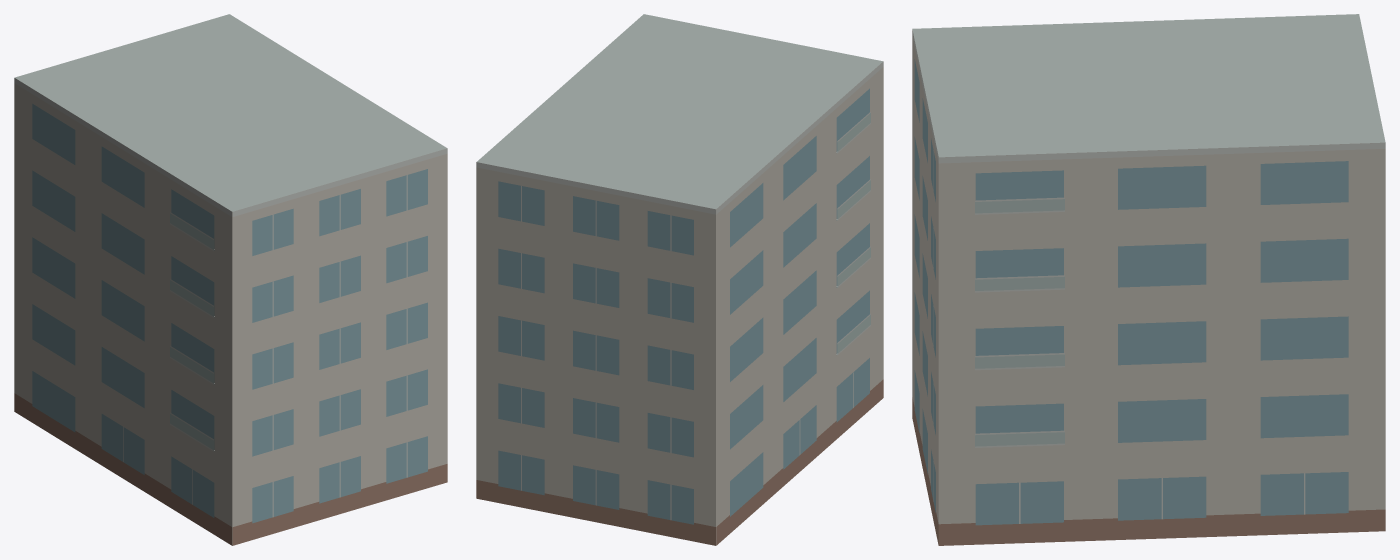
Rendered from survey-upis-32654816.glb.
The picture shows the model from 3 angles, left to right: view 1: azimuth 30°, elevation 25°; view 2: azimuth 150°, elevation 25°; view 3: azimuth 270°, elevation 25°; orthographic projection. The views are drawn at different scales.
Visible parts, largest first — view 1: survey-upis-32654816.tmp; view 2: survey-upis-32654816.tmp; view 3: survey-upis-32654816.tmp.
Part boxes in pixels (x1,y1,x2,y2): survey-upis-32654816.tmp: [14, 14, 447, 545]; survey-upis-32654816.tmp: [476, 14, 883, 545]; survey-upis-32654816.tmp: [912, 14, 1385, 545].
Size of the model in its own units: 12.07 by 15.25 by 16.85.
